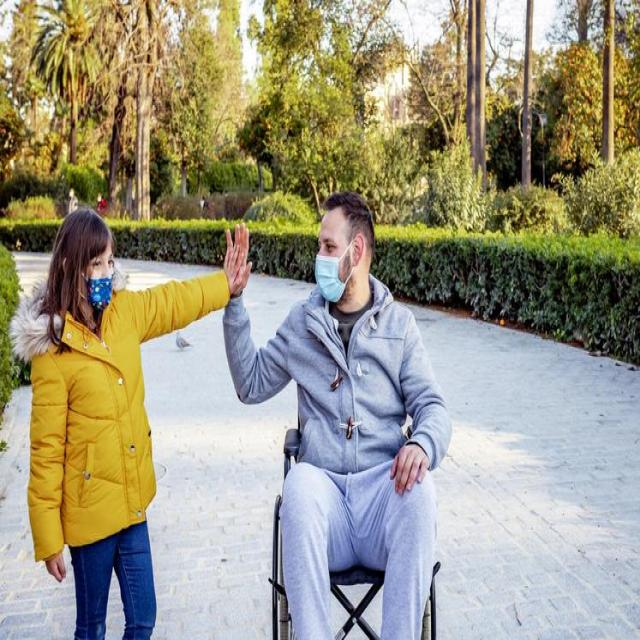wheelchairs: (255, 409, 444, 640)
